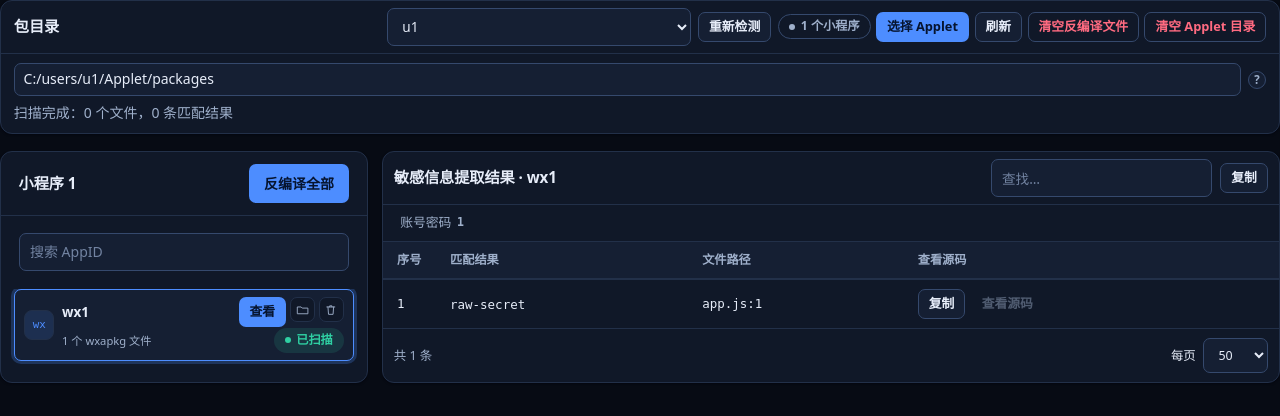
ExtractView › clears the active result when switching to another user directory
The width and height of the screenshot is (1280, 416).
Expected: the row with test id "finding-f1" is shown, x1=383 y1=279 x2=1279 y2=328
Select "u2" in the dropdown with test id "user-directory" at (539, 27), box x1=387 y1=8 x2=691 y2=46
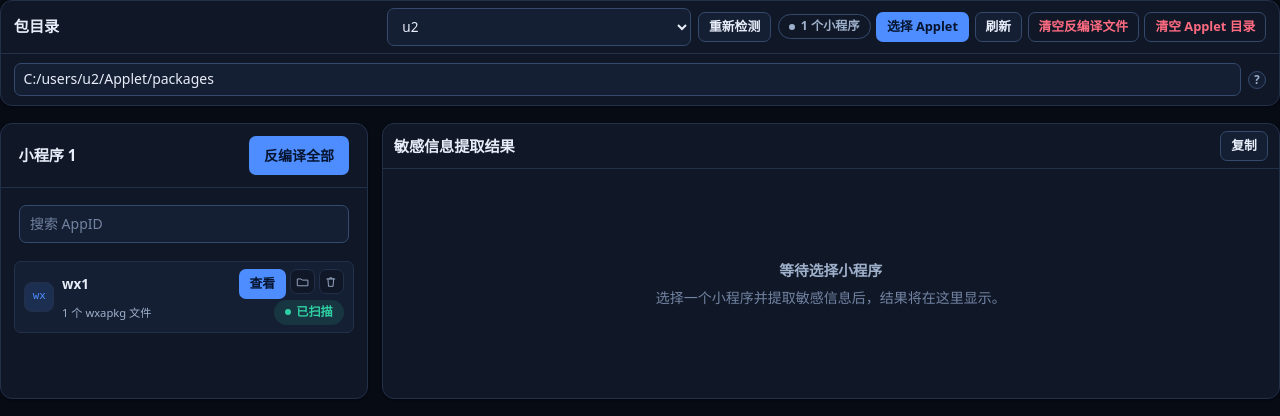
Result: the text "等待选择小程序" is shown at x1=779 y1=259 x2=882 y2=282
